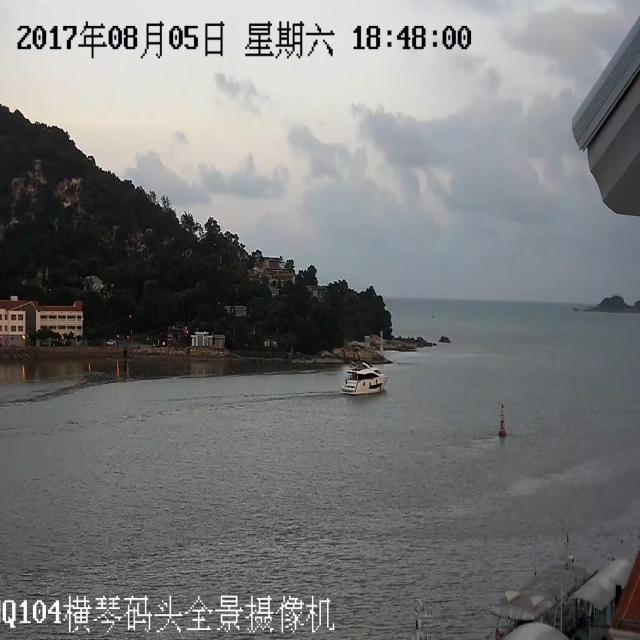buoy: (493, 397, 513, 443)
passenger ship: (336, 350, 385, 400)
